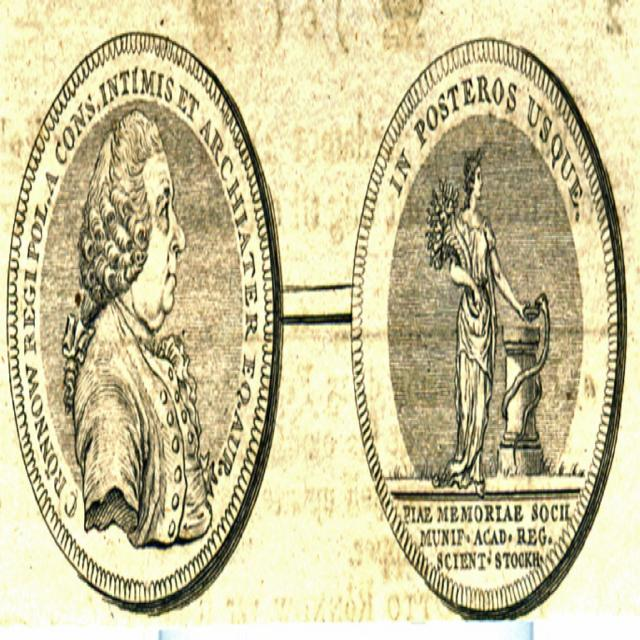Coin: (7, 32, 284, 616), (350, 38, 626, 618)
